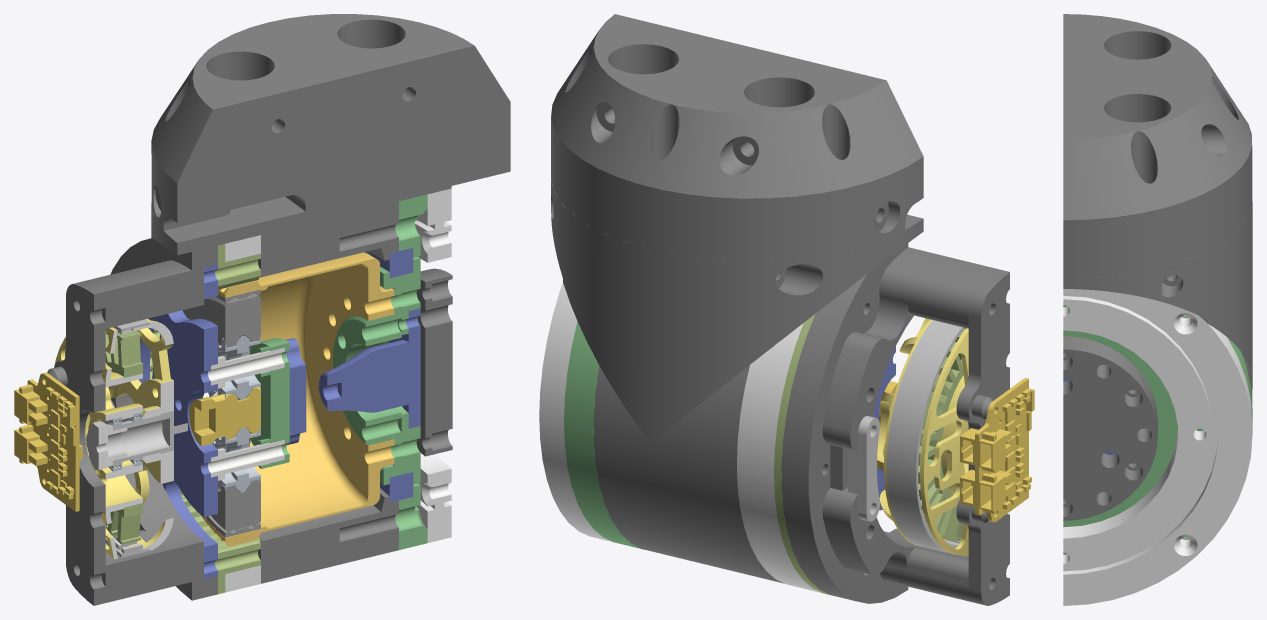
File: MechanicalDesign.glb
3 views of the same model, side by side, from view 1: azimuth 30°, elevation 25°; view 2: azimuth 150°, elevation 25°; view 3: azimuth 270°, elevation 25° (orthographic). The views are drawn at different scales.
Visible parts, largest first — view 1: Coloured Joint; view 2: Coloured Joint; view 3: Coloured Joint.
Boxes of the visible parts, left/top/right/bottom form: Coloured Joint: left=14, top=14, right=510, bottom=605; Coloured Joint: left=539, top=14, right=1034, bottom=605; Coloured Joint: left=1063, top=14, right=1252, bottom=605.
Bounding box in the file's own units: 18.82 × 19.5 × 7.
